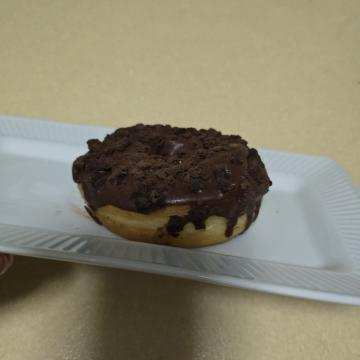doughnut: (107, 82, 259, 300)
